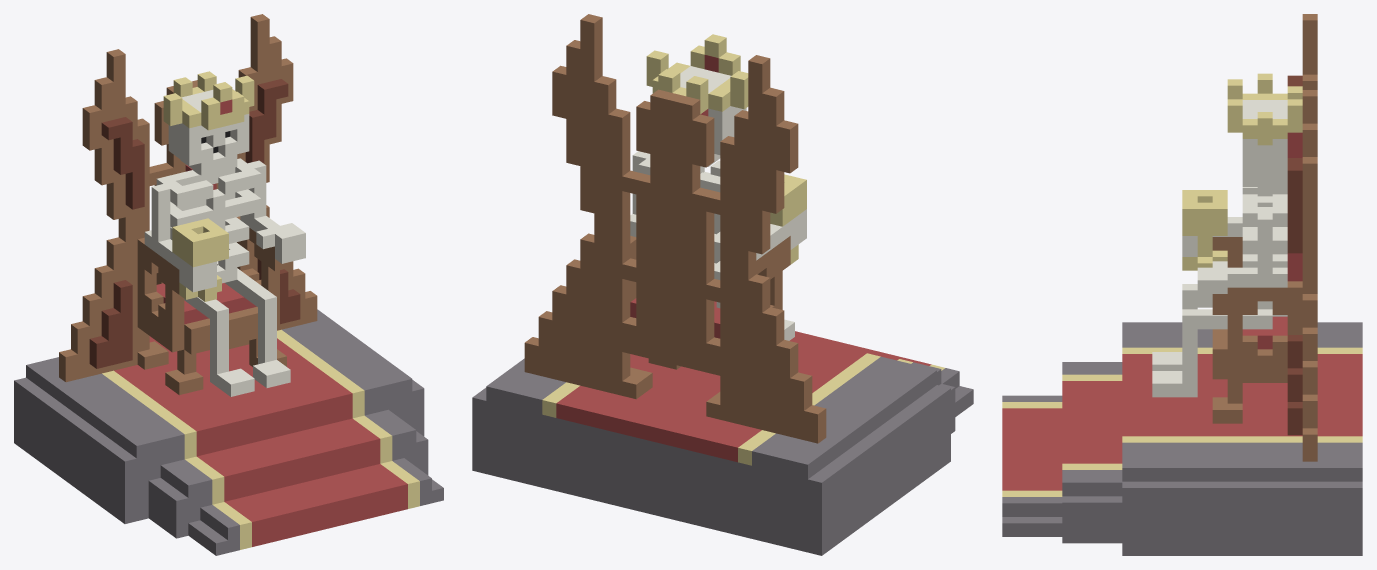
Rendered from Throne.fbx.
The picture shows the model from 3 angles, left to right: view 1: azimuth 30°, elevation 25°; view 2: azimuth 150°, elevation 25°; view 3: azimuth 270°, elevation 25°; orthographic projection. The views are drawn at different scales.
Visible parts, largest first — view 1: Throne, Ribs, Crown, Head, Chalice, Right_Lower_Leg, Left_Lower_Leg, Left_Forearm, Right_Forearm, Right_Upper_Arm, Left_Upper_Arm, Left_Upper_Leg; view 2: Throne, Crown, Head, Chalice, Ribs, Right_Forearm; view 3: Throne, Crown, Ribs, Chalice, Head, Left_Lower_Leg, Left_Forearm, Left_Upper_Arm, Left_Upper_Leg, Right_Lower_Leg, Right_Forearm.
Boxes of the visible parts, x1=… form: Throne: x1=14, y1=14, x2=443, y2=555; Ribs: x1=156, y1=158, x2=261, y2=283; Crown: x1=163, y1=71, x2=254, y2=130; Head: x1=168, y1=90, x2=249, y2=175; Chalice: x1=172, y1=218, x2=228, y2=301; Right_Lower_Leg: x1=210, y1=304, x2=254, y2=396; Left_Lower_Leg: x1=253, y1=292, x2=290, y2=387; Left_Forearm: x1=254, y1=216, x2=305, y2=263; Right_Forearm: x1=158, y1=239, x2=216, y2=292; Right_Upper_Arm: x1=144, y1=184, x2=170, y2=253; Left_Upper_Arm: x1=240, y1=160, x2=266, y2=230; Left_Upper_Leg: x1=225, y1=268, x2=269, y2=306; Throne: x1=472, y1=14, x2=973, y2=555; Crown: x1=646, y1=34, x2=748, y2=113; Head: x1=680, y1=66, x2=746, y2=166; Chalice: x1=770, y1=174, x2=806, y2=264; Ribs: x1=638, y1=156, x2=720, y2=279; Right_Forearm: x1=766, y1=209, x2=806, y2=252; Throne: x1=1002, y1=14, x2=1362, y2=555; Crown: x1=1227, y1=73, x2=1302, y2=145; Ribs: x1=1242, y1=187, x2=1287, y2=316; Chalice: x1=1182, y1=190, x2=1227, y2=270; Head: x1=1242, y1=100, x2=1287, y2=186; Left_Lower_Leg: x1=1152, y1=309, x2=1197, y2=397; Left_Forearm: x1=1197, y1=261, x2=1257, y2=307; Left_Upper_Arm: x1=1257, y1=213, x2=1287, y2=287; Left_Upper_Leg: x1=1197, y1=309, x2=1272, y2=329; Right_Lower_Leg: x1=1152, y1=284, x2=1197, y2=370; Right_Forearm: x1=1182, y1=217, x2=1242, y2=256.
Size of the model in its own units: 2.5 by 3.1 by 2.4.
Materials: 13 (13 with a texture image).
